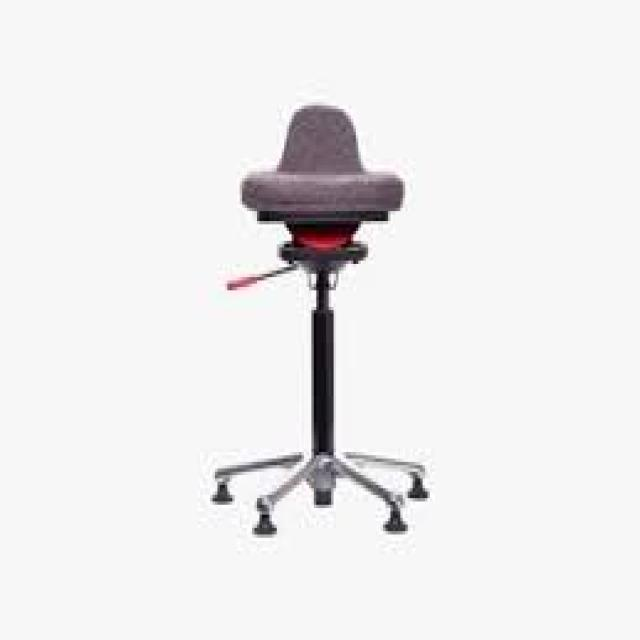chair: (186, 80, 482, 618)
